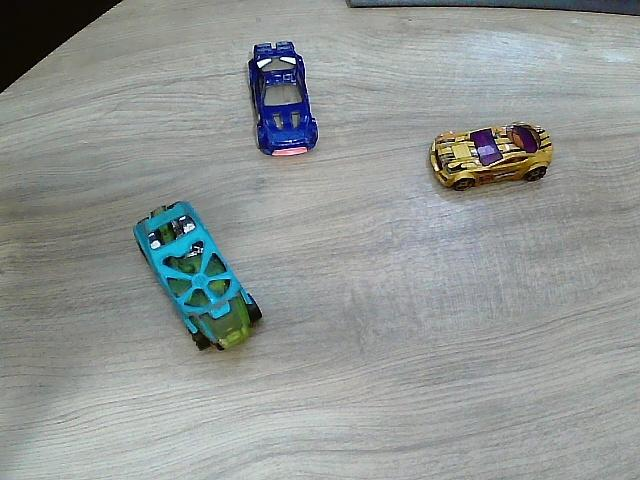Carro: (132, 202, 262, 352), (428, 124, 555, 191), (249, 42, 318, 159)
